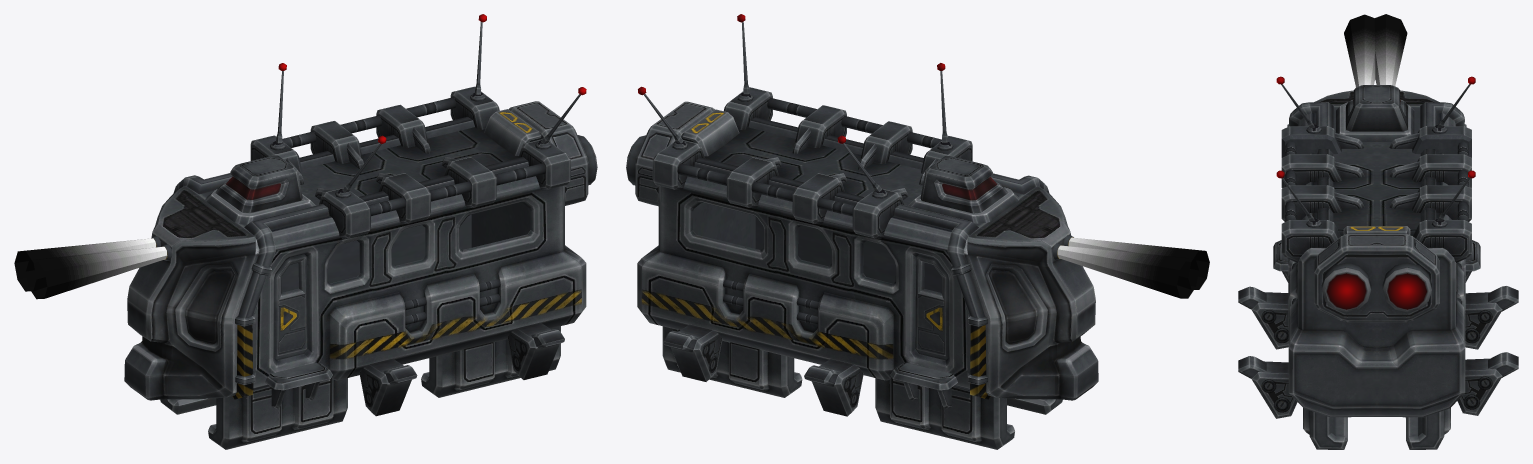
The model's file is monorailengine_00.fbx.
3 views of the same model, side by side, from view 1: azimuth 30°, elevation 25°; view 2: azimuth 150°, elevation 25°; view 3: azimuth 270°, elevation 25° (orthographic). The views are drawn at different scales.
Visible parts, largest first — view 1: Geoset_0, Geoset_1; view 2: Geoset_0, Geoset_1; view 3: Geoset_0, Geoset_1.
Part boxes in pixels (x1,y1,x2,y2): Geoset_0: (124,14,597,449); Geoset_1: (14,238,167,299); Geoset_0: (626,14,1098,449); Geoset_1: (1057,237,1209,298); Geoset_0: (1238,76,1518,449); Geoset_1: (1344,14,1407,87).
Bounding box in the file's own units: 3.74 × 1.95 × 1.75.
2 materials, 2 textured.
